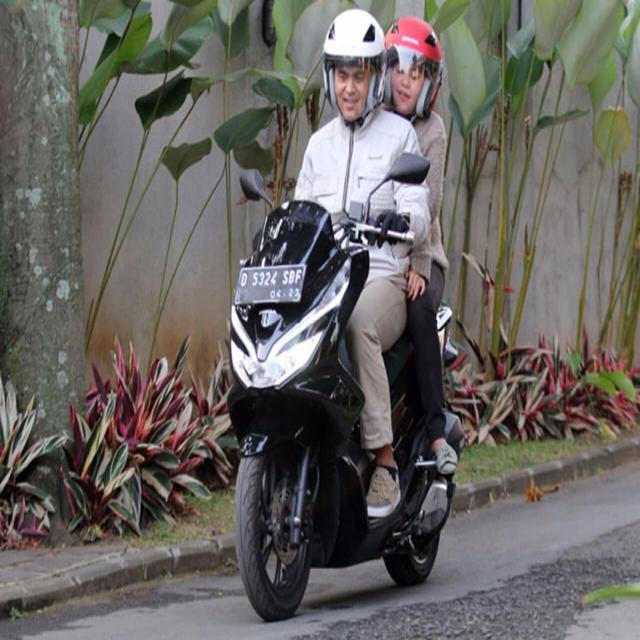Helmet: (323, 9, 384, 117), (384, 16, 441, 116)
Number Plate: (235, 265, 306, 305)
Rearview Mirror: (365, 153, 429, 220), (385, 153, 429, 183), (240, 169, 272, 207)
